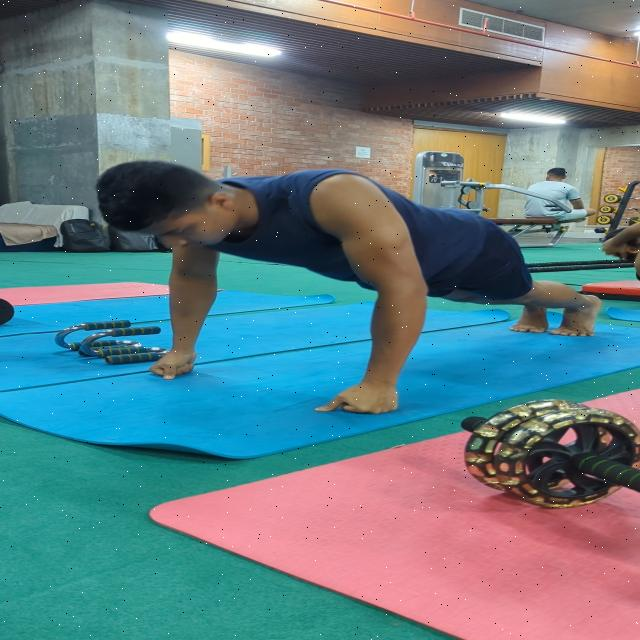Normal_PushUps: (77, 155, 604, 425)
